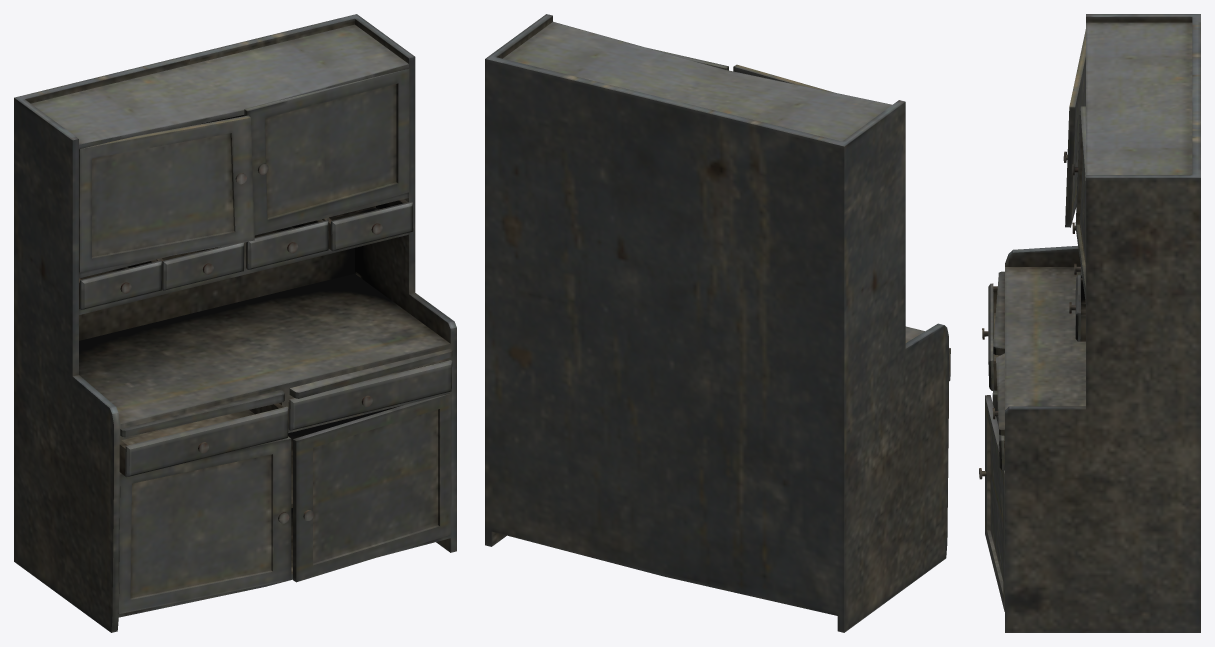
The model's file is L_Storage.FBX.
3 renders of one model, left to right at view 1: azimuth 30°, elevation 25°; view 2: azimuth 150°, elevation 25°; view 3: azimuth 270°, elevation 25°, orthographic. The views are drawn at different scales.
Visible parts, largest first — view 1: L_Storage, BottomDoor_01, BottomDoor_02, TopDoor_01, TopDoor_02, LargeDrawer_01, LargeDrawer_02, SmallDrawer_04, SmallDrawer_03, SmallDrawer_01, SmallDrawer_02; view 2: L_Storage; view 3: L_Storage, BottomDoor_02, TopDoor_01, TopDoor_02, LargeDrawer_01, SmallDrawer_04.
Part boxes in pixels (left/top/right/bottom): L_Storage: left=14, top=14, right=456, bottom=632; BottomDoor_01: left=118, top=436, right=291, bottom=613; BottomDoor_02: left=293, top=393, right=450, bottom=582; TopDoor_01: left=79, top=115, right=254, bottom=272; TopDoor_02: left=244, top=69, right=409, bottom=234; LargeDrawer_01: left=119, top=403, right=288, bottom=477; LargeDrawer_02: left=279, top=360, right=452, bottom=430; SmallDrawer_04: left=322, top=199, right=413, bottom=251; SmallDrawer_03: left=246, top=219, right=328, bottom=269; SmallDrawer_01: left=79, top=259, right=161, bottom=309; SmallDrawer_02: left=156, top=242, right=244, bottom=290; L_Storage: left=485, top=14, right=948, bottom=632; L_Storage: left=993, top=14, right=1200, bottom=632; BottomDoor_02: left=979, top=395, right=1004, bottom=611; TopDoor_01: left=1063, top=29, right=1085, bottom=227; TopDoor_02: left=1072, top=106, right=1086, bottom=303; LargeDrawer_01: left=982, top=283, right=999, bottom=390; SmallDrawer_04: left=1069, top=275, right=1085, bottom=341.
Bounding box in the file's own units: 169 × 218 × 96.53.
